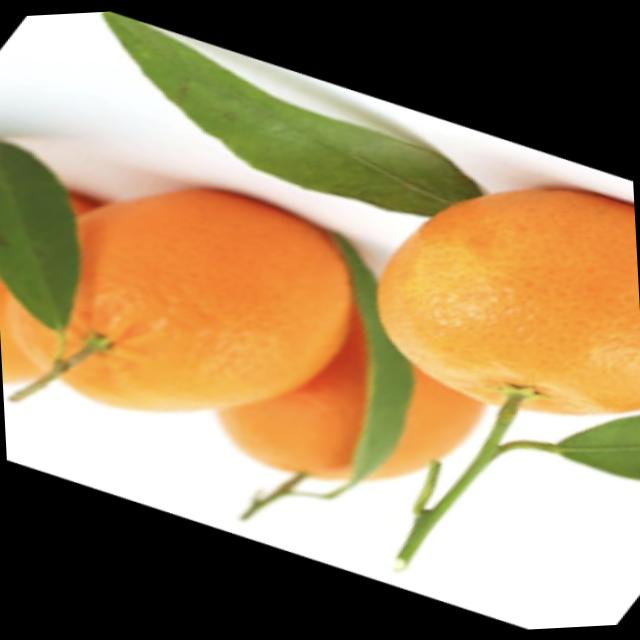orange: (33, 192, 358, 425)
